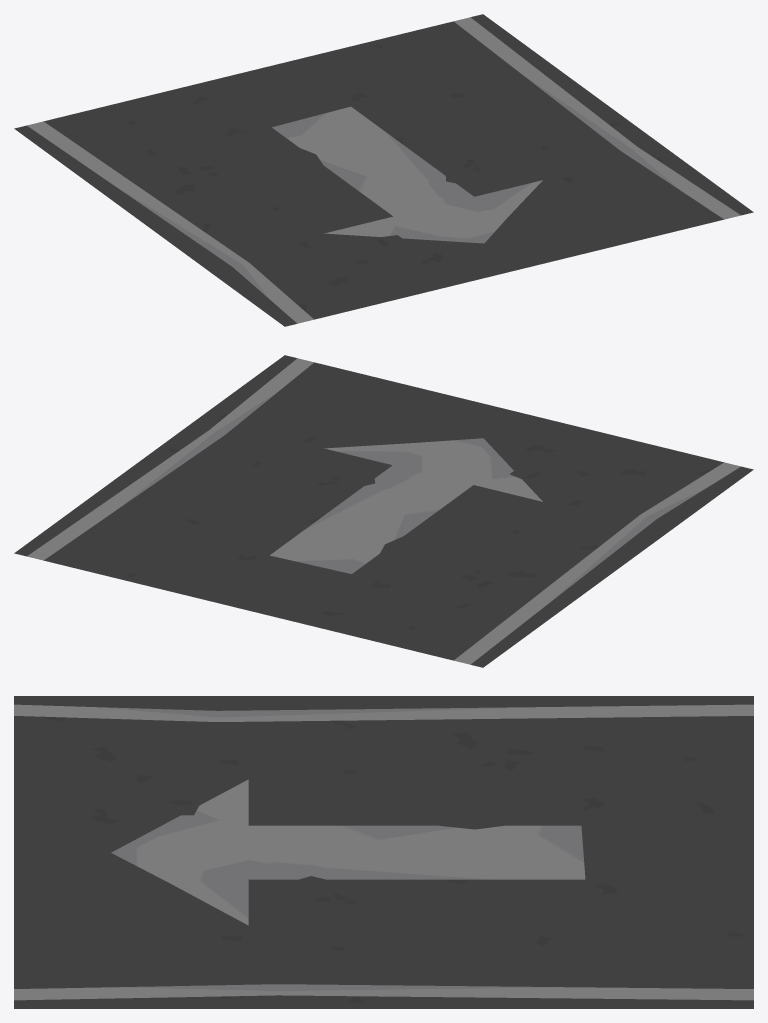
The model's file is SM_Env_Road_Arrow_02.glb.
The picture shows the model from 3 angles, top to bottom: view 1: azimuth 30°, elevation 25°; view 2: azimuth 150°, elevation 25°; view 3: azimuth 270°, elevation 25°; orthographic projection. The views are drawn at different scales.
Visible parts, largest first — view 1: SM_Env_Road_Arrow_02; view 2: SM_Env_Road_Arrow_02; view 3: SM_Env_Road_Arrow_02.
Boxes of the visible parts, <box> form: SM_Env_Road_Arrow_02: <box>14,14,753,326</box>; SM_Env_Road_Arrow_02: <box>14,355,753,667</box>; SM_Env_Road_Arrow_02: <box>14,696,753,1008</box>.
Bounding box in the file's own units: 5 × 3.65e-07 × 5.
Materials: 1 (1 with a texture image).
